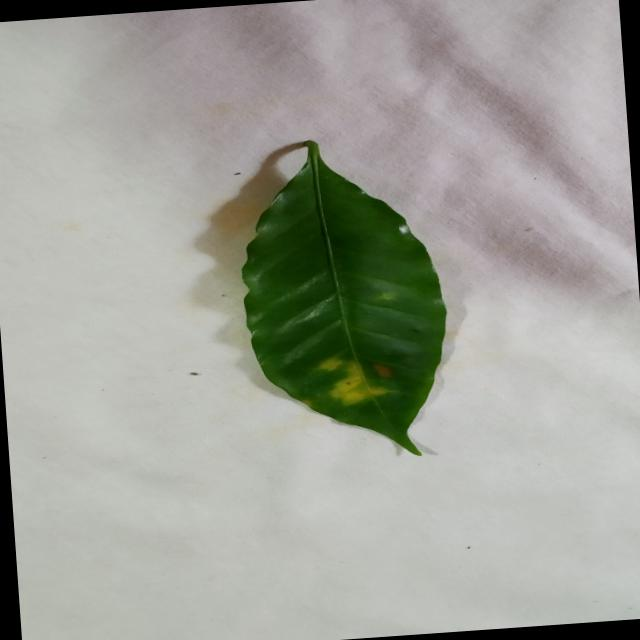KaratDaunKopi: (330, 361, 386, 405), (320, 358, 343, 370), (373, 363, 392, 377), (380, 291, 394, 299), (300, 400, 311, 407)
